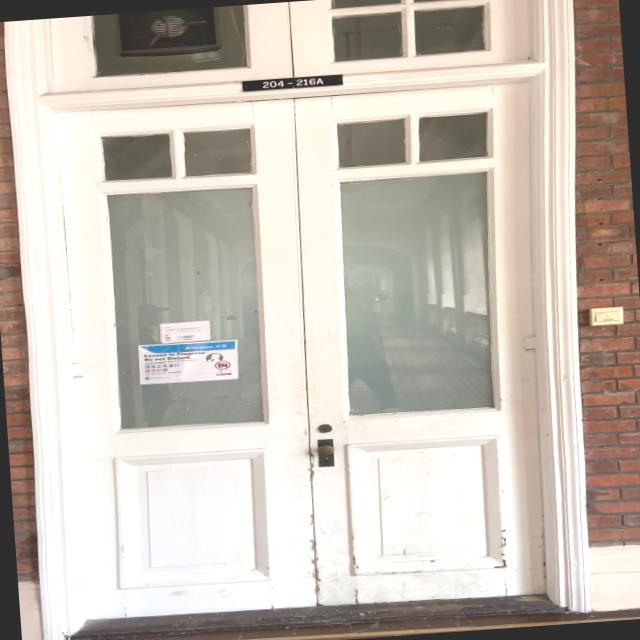room204: (234, 68, 342, 95)
